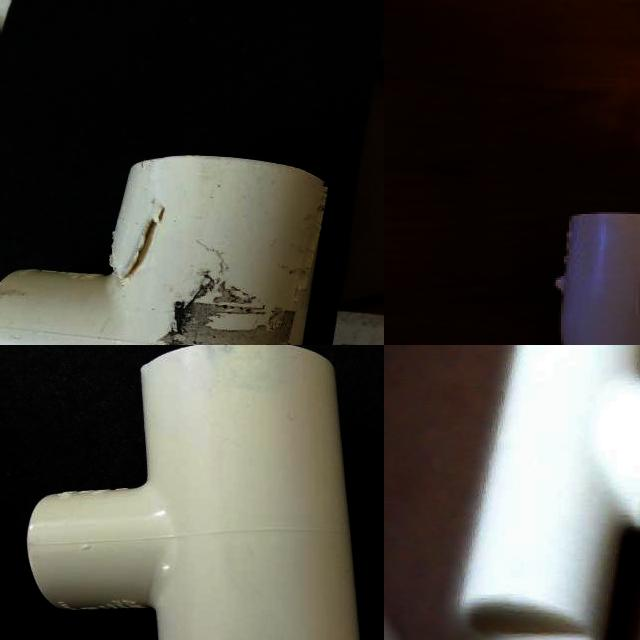Defective: (123, 211, 173, 278)
T Joint: (22, 345, 361, 640), (0, 155, 329, 345), (455, 345, 640, 640)
